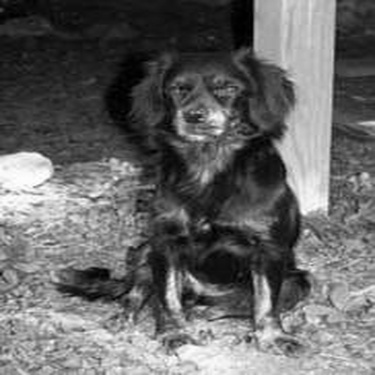dog: (46, 39, 316, 365)
